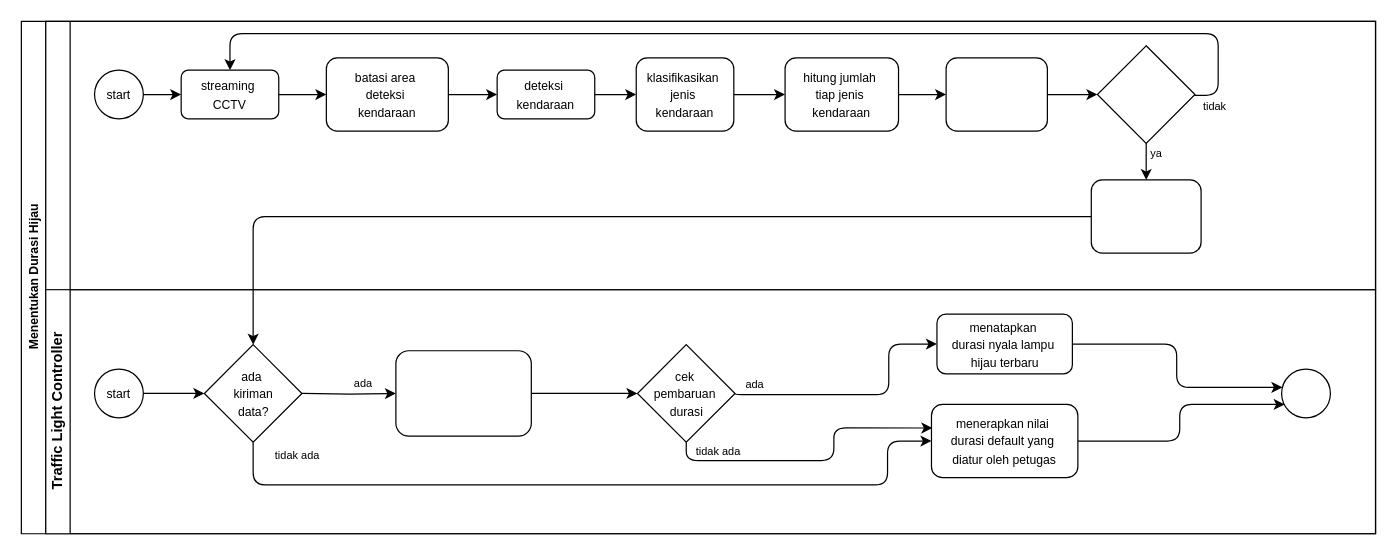
Some shapes in this 1397 by 555 pixel diagram are drawn without their labels. The box of each missing label's shape, as (x1, y1, x2, y2) in pixels:
app YOLO: (45, 20, 1376, 290)
end: (1280, 368, 1330, 418)
kalkulasi durasi nyala lampu hijau: (945, 57, 1047, 131)
kirim nilai durasi nyala lampu hijau: (1090, 179, 1201, 253)
menerima kiriman data durasi nyala lampu hijau: (395, 350, 531, 436)
perhitungan berhasil?: (1096, 45, 1195, 143)
